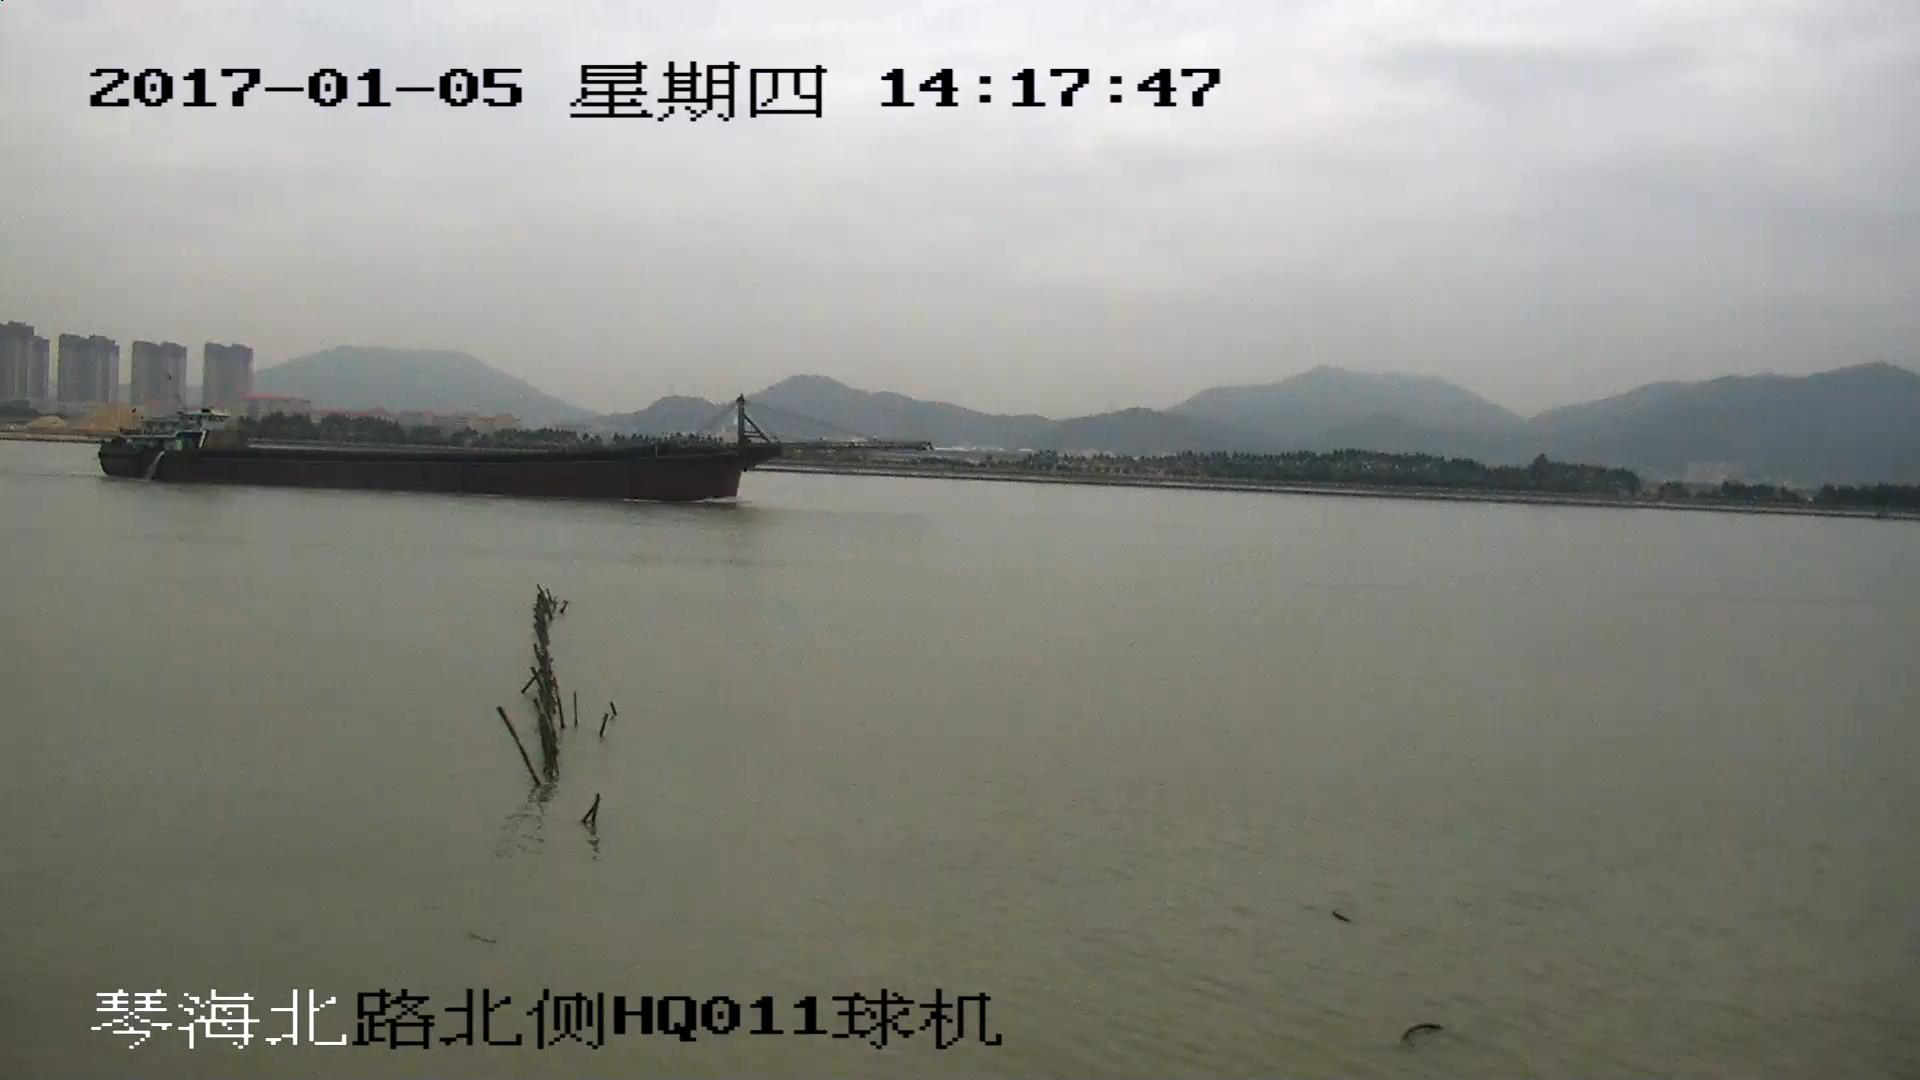Ship: (102, 396, 923, 502)
